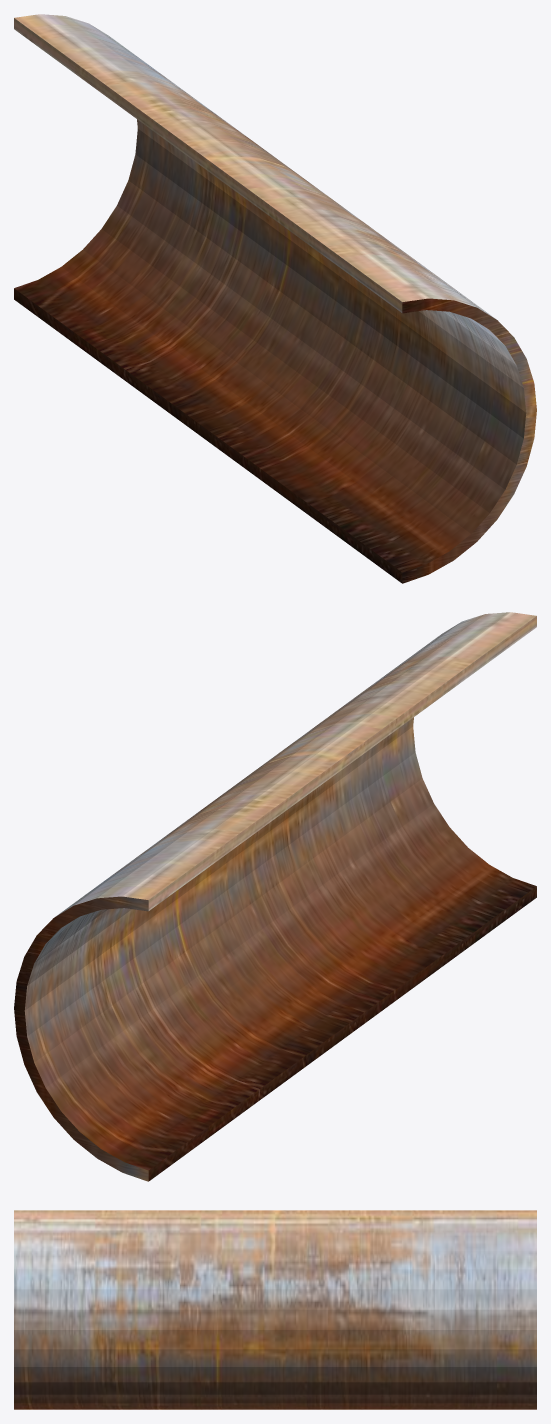
File: Pipe.fbx
3 views of the same model, one above another, from view 1: azimuth 30°, elevation 25°; view 2: azimuth 150°, elevation 25°; view 3: azimuth 270°, elevation 25° (orthographic). The views are drawn at different scales.
Parts seen in each view (by area): view 1: Circle.000; view 2: Circle.000; view 3: Circle.000.
Part boxes in pixels (left/top/right/bottom): Circle.000: left=14, top=14, right=536, bottom=583; Circle.000: left=14, top=612, right=536, bottom=1181; Circle.000: left=14, top=1210, right=536, bottom=1409.
Size of the model in its own units: 100 by 200 by 500.
